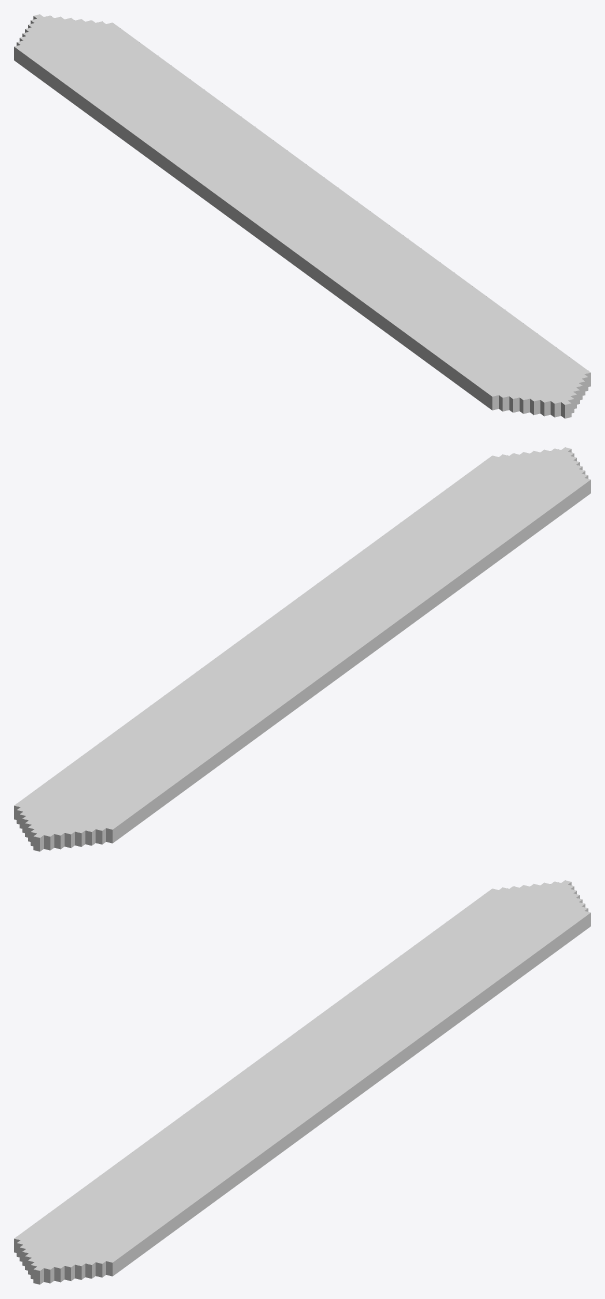
The model's file is TremorTargetArea.obj.
3 views of the same model, one above another, from view 1: azimuth 30°, elevation 25°; view 2: azimuth 150°, elevation 25°; view 3: azimuth 330°, elevation 25° (orthographic).
Visible parts, largest first — view 1: TremorTargetArea; view 2: TremorTargetArea; view 3: TremorTargetArea.
Boxes of the visible parts, <box> form: TremorTargetArea: <box>14,14,590,418</box>; TremorTargetArea: <box>14,447,590,851</box>; TremorTargetArea: <box>14,880,590,1284</box>.
Bounding box in the file's own units: 15 × 2 × 140.
